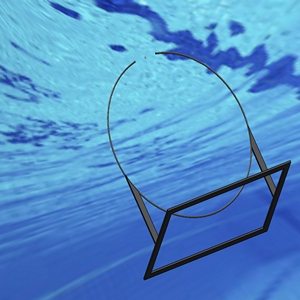circle: (105, 50, 292, 280)
